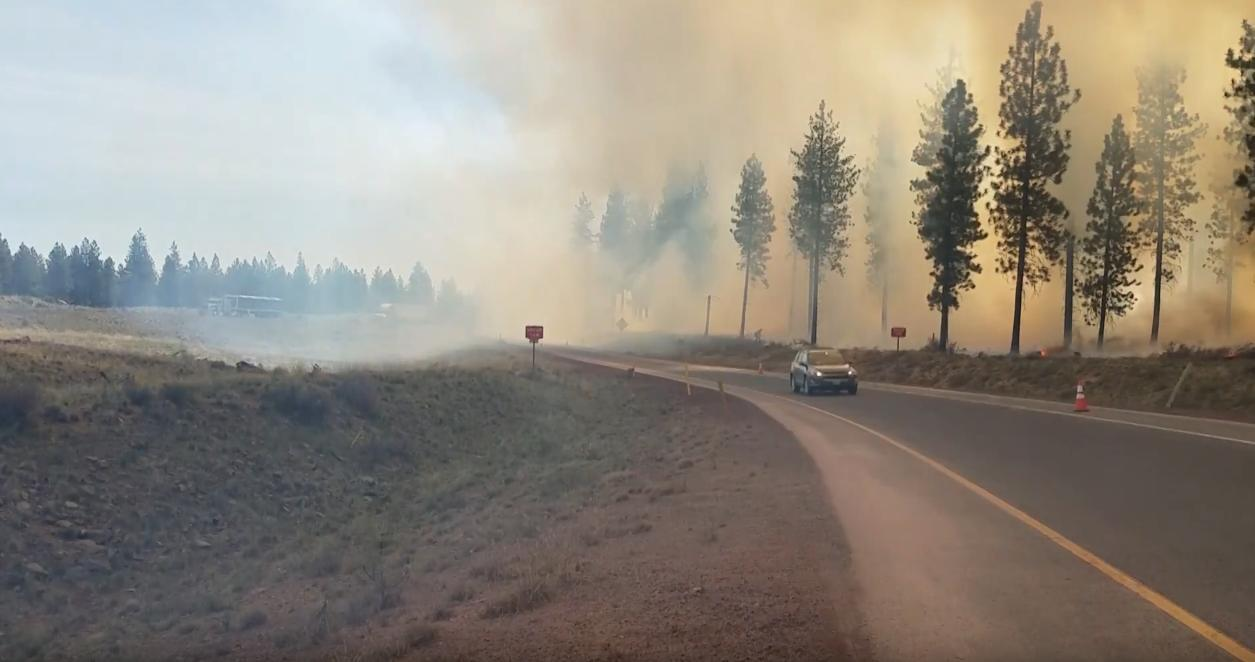smoke: (562, 23, 772, 128), (490, 162, 573, 318)
